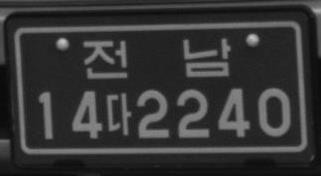0: (257, 86, 292, 138)
1: (33, 90, 60, 141)
2: (175, 87, 210, 139), (135, 87, 169, 140)
4: (216, 87, 251, 138), (70, 89, 103, 139)
다: (105, 91, 132, 136)
전남_D: (82, 36, 232, 81)
